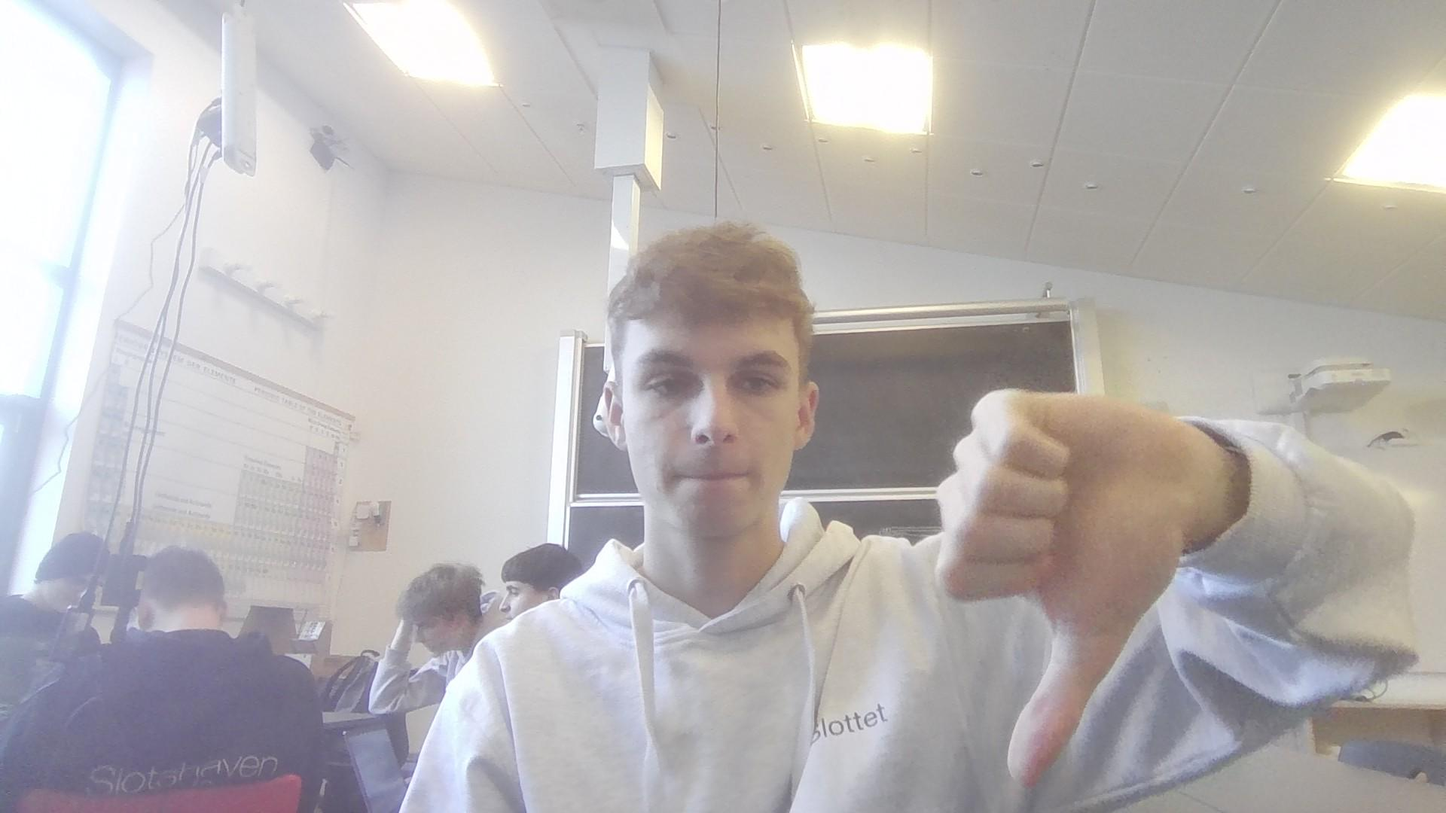thumbs down: (932, 381, 1229, 760)
